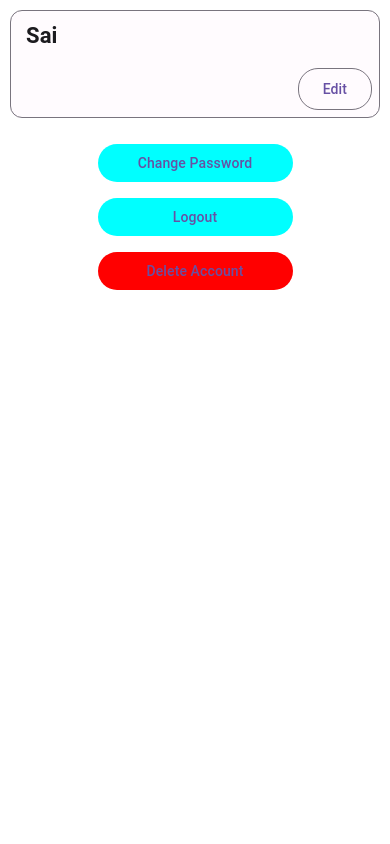
Test: shows an error when the password and confirm password are not the same
The image size is (390, 844).
Click the button "Change Password" at (195, 163), box [98, 144, 292, 182]
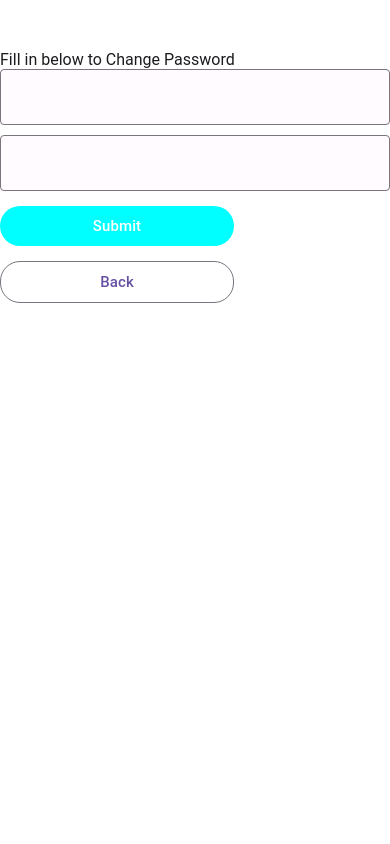
Fill in only the event name
Type "123456" into the password field with test id "password" at (195, 97), box [0, 69, 389, 125]
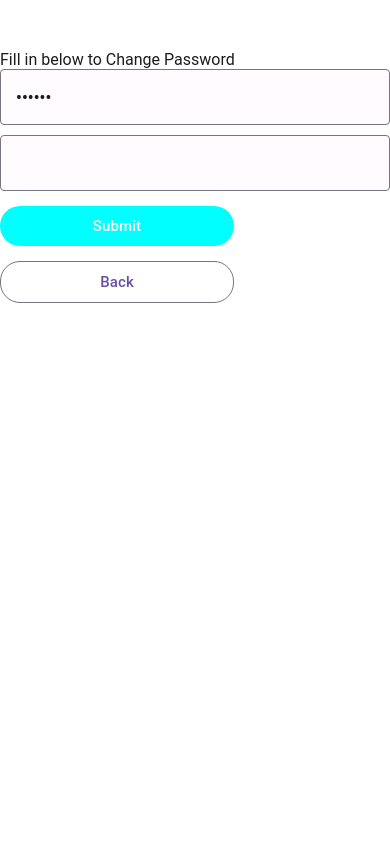
Type "1234567" into the password field with test id "confirmPassword" at (195, 163), box [0, 135, 389, 191]
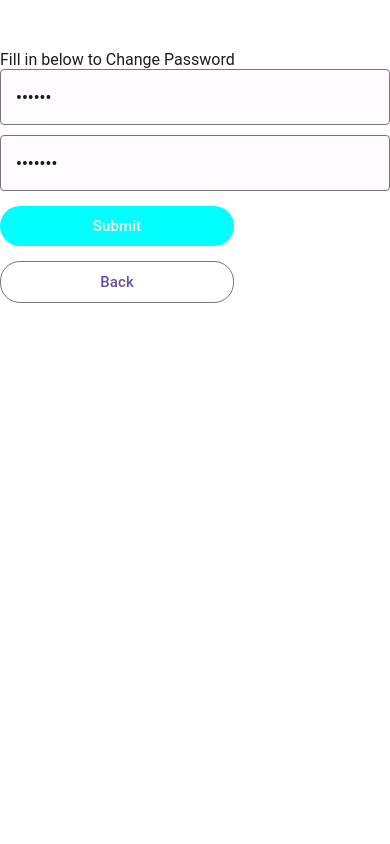
Click the button "Submit" at (117, 226), box [0, 206, 234, 246]
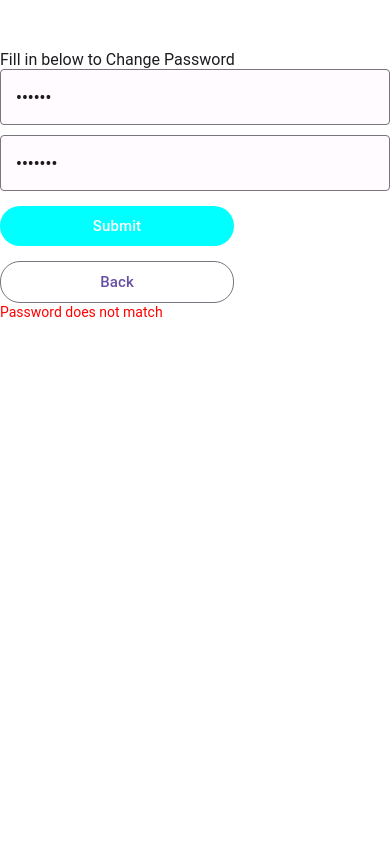
Now the text "Password does not match" is shown, box [0, 304, 163, 320]
